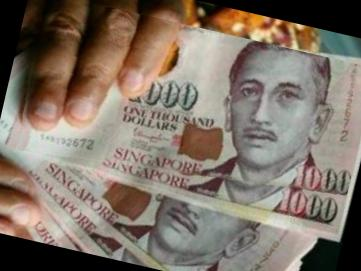1000SingaporeDollar: (7, 0, 361, 225)
